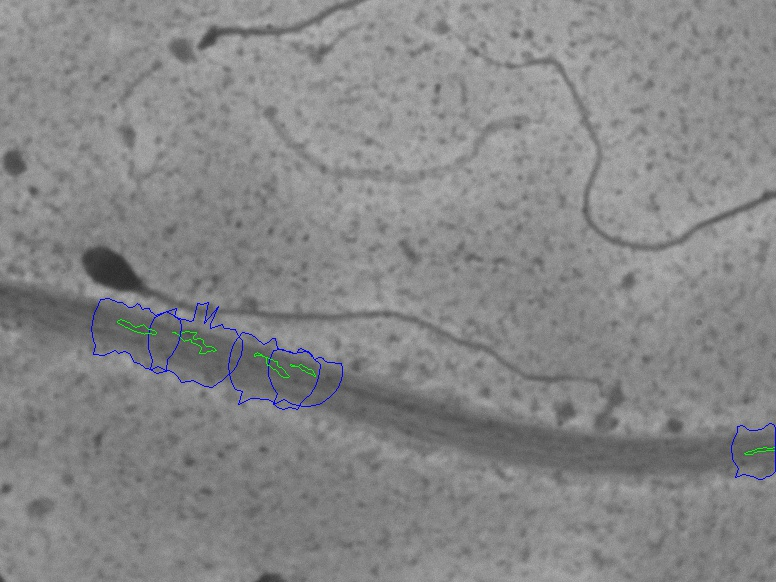Normal: (73, 234, 612, 396)
